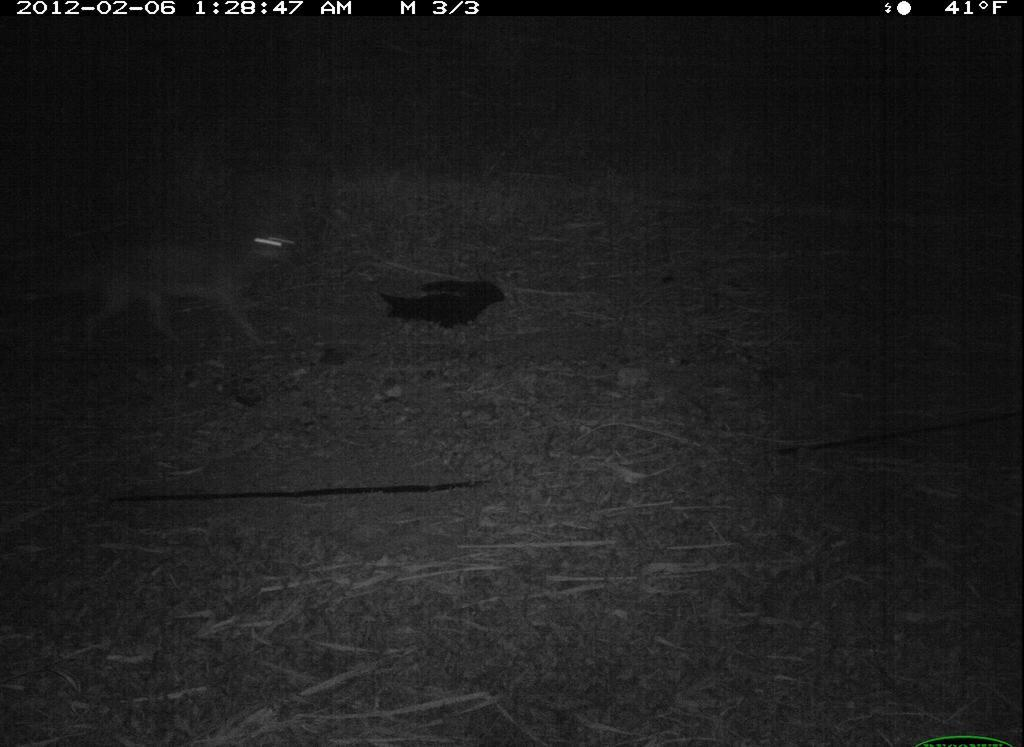coyote: (62, 205, 310, 367)
